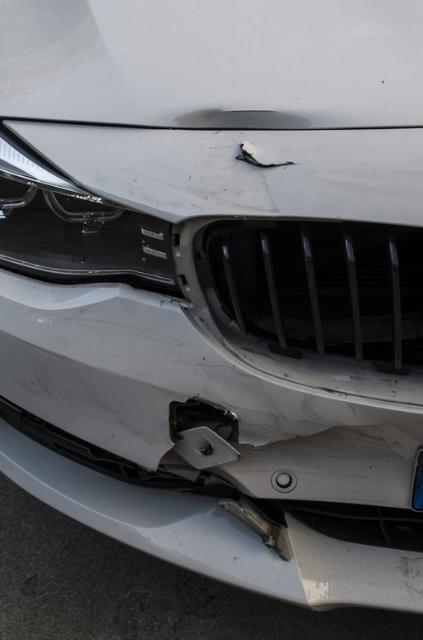Bumper: (139, 113, 369, 600)
